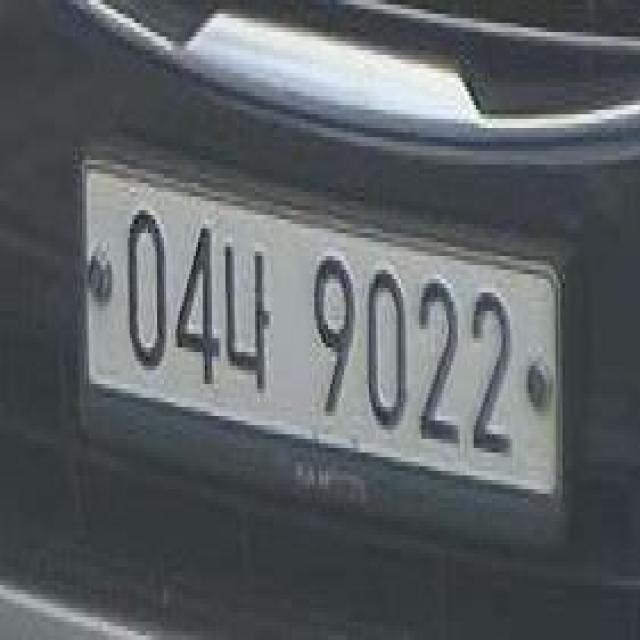illegal_plate: (78, 149, 570, 541)
